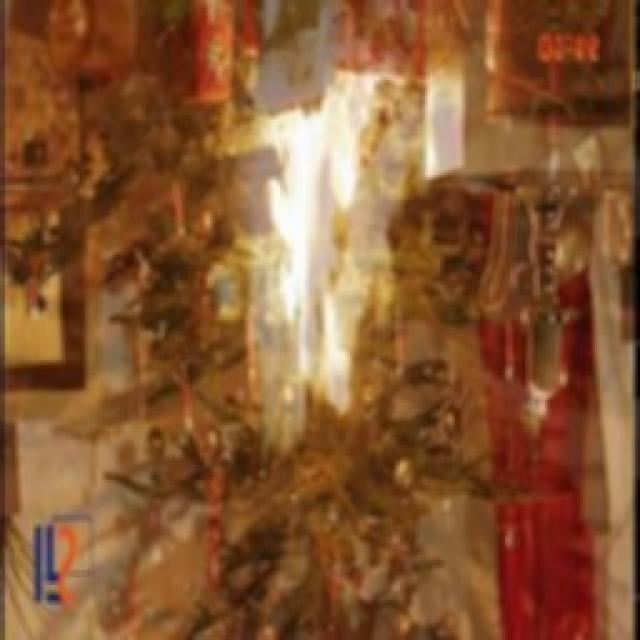fire: (245, 81, 430, 419)
